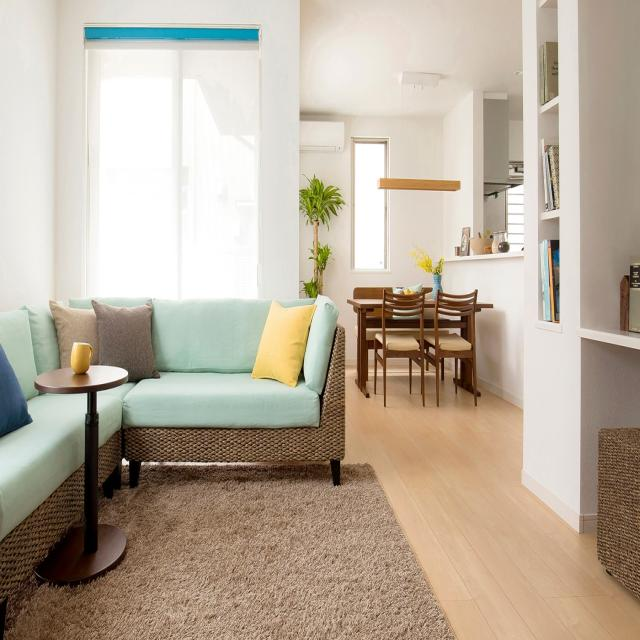natural chair: (380, 290, 425, 411), (434, 290, 479, 408)
natural sofa: (0, 286, 351, 640)
